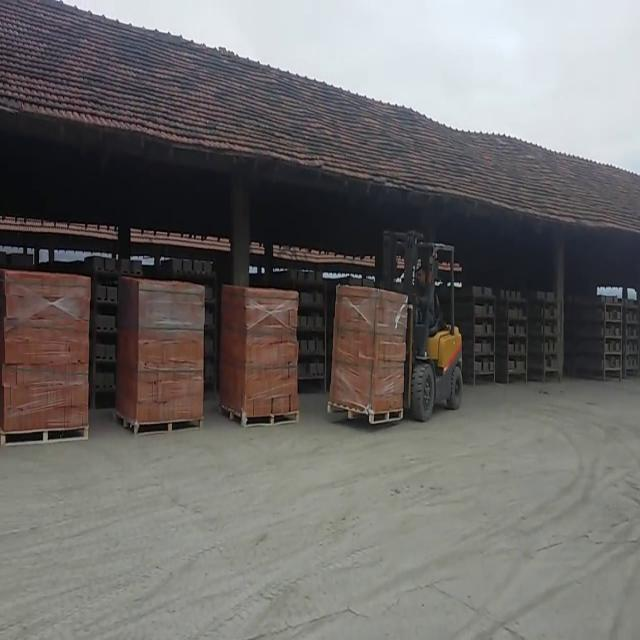Chariot elevateur: (379, 226, 471, 427)
